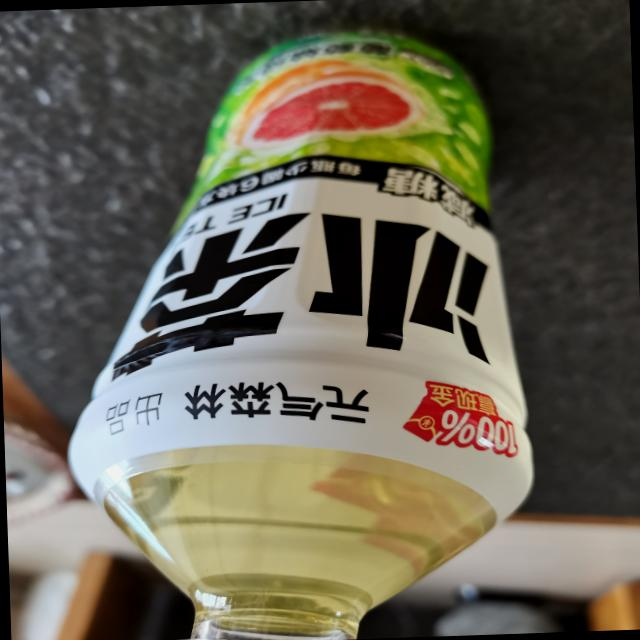bottle: (48, 19, 544, 640)
